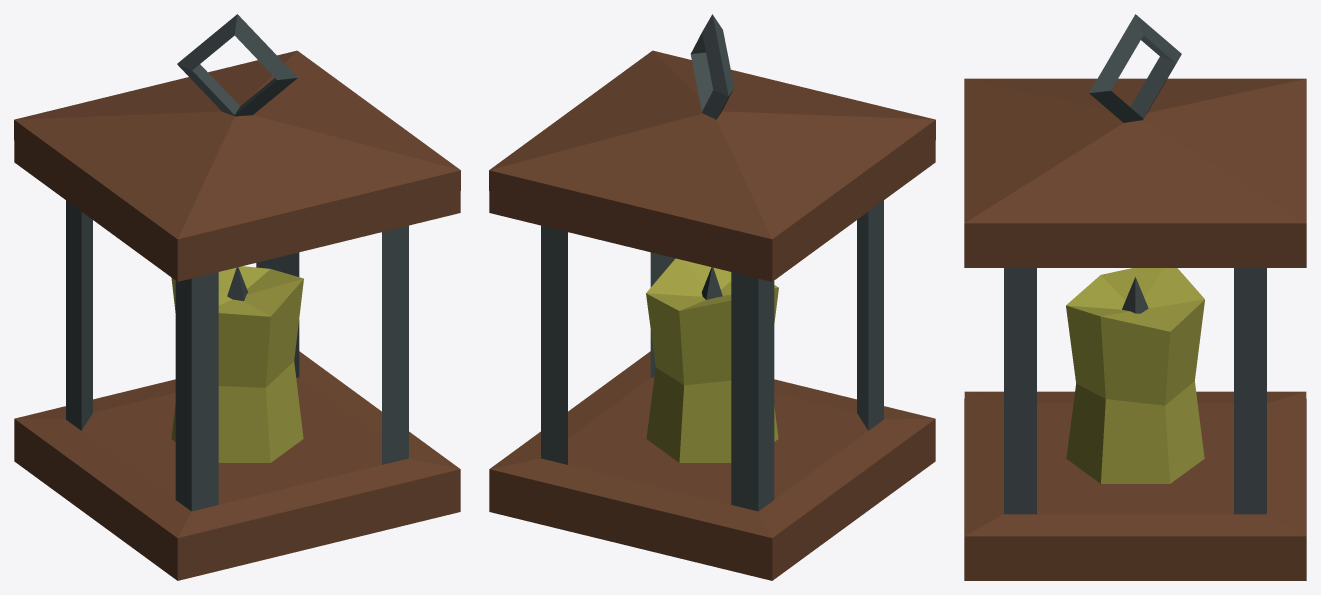
The model's file is Lamp_5_Yellow.fbx.
3 renders of one model, left to right at view 1: azimuth 30°, elevation 25°; view 2: azimuth 150°, elevation 25°; view 3: azimuth 270°, elevation 25°, orthographic. The views are drawn at different scales.
Parts seen in each view (by area): view 1: Lamp_5_Yellow; view 2: Lamp_5_Yellow; view 3: Lamp_5_Yellow.
Boxes of the visible parts, x1=… form: Lamp_5_Yellow: x1=14, y1=14, x2=460, y2=580; Lamp_5_Yellow: x1=489, y1=14, x2=935, y2=580; Lamp_5_Yellow: x1=964, y1=14, x2=1306, y2=580.
Bounding box in the file's own units: 26.04 × 41.5 × 26.04.
